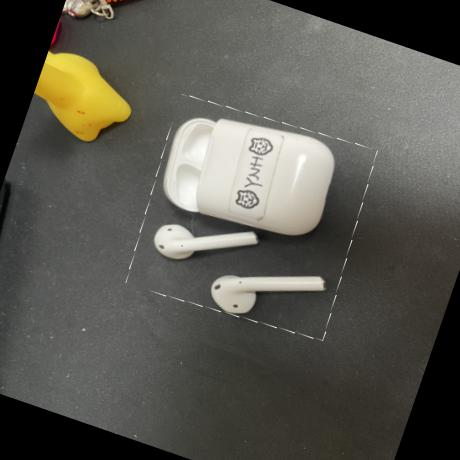airpod2: (120, 88, 384, 347)
